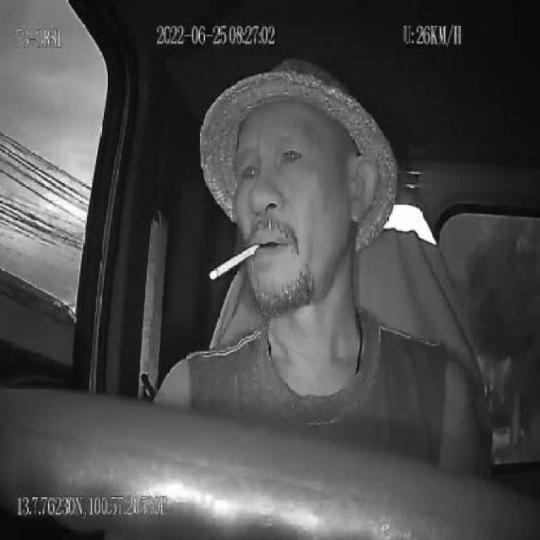smoking: (210, 242, 261, 283)
